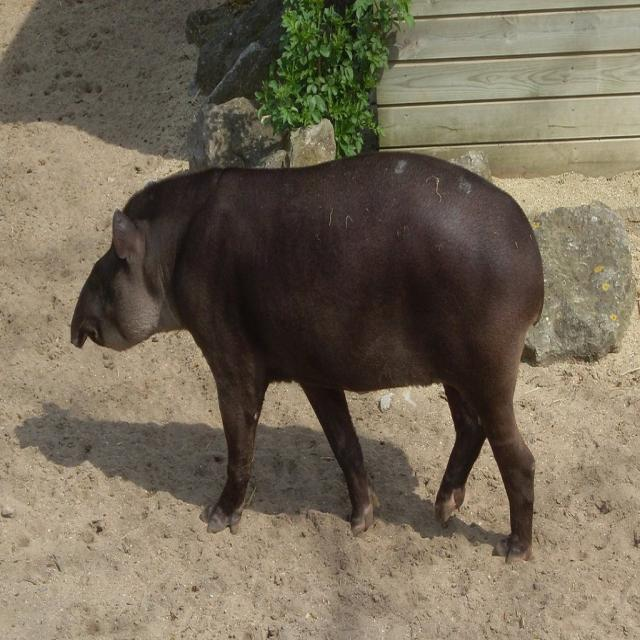Pig: (70, 151, 545, 563)
